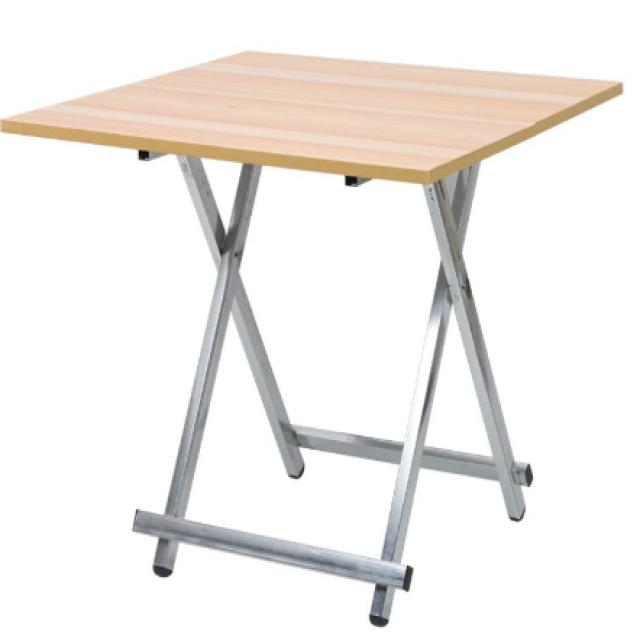table: (1, 44, 632, 630)
